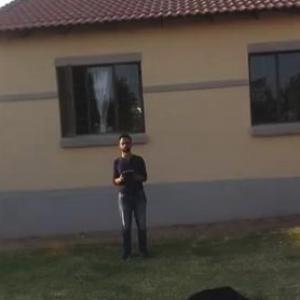follow: (113, 127, 158, 270)
null: (179, 280, 260, 299)
